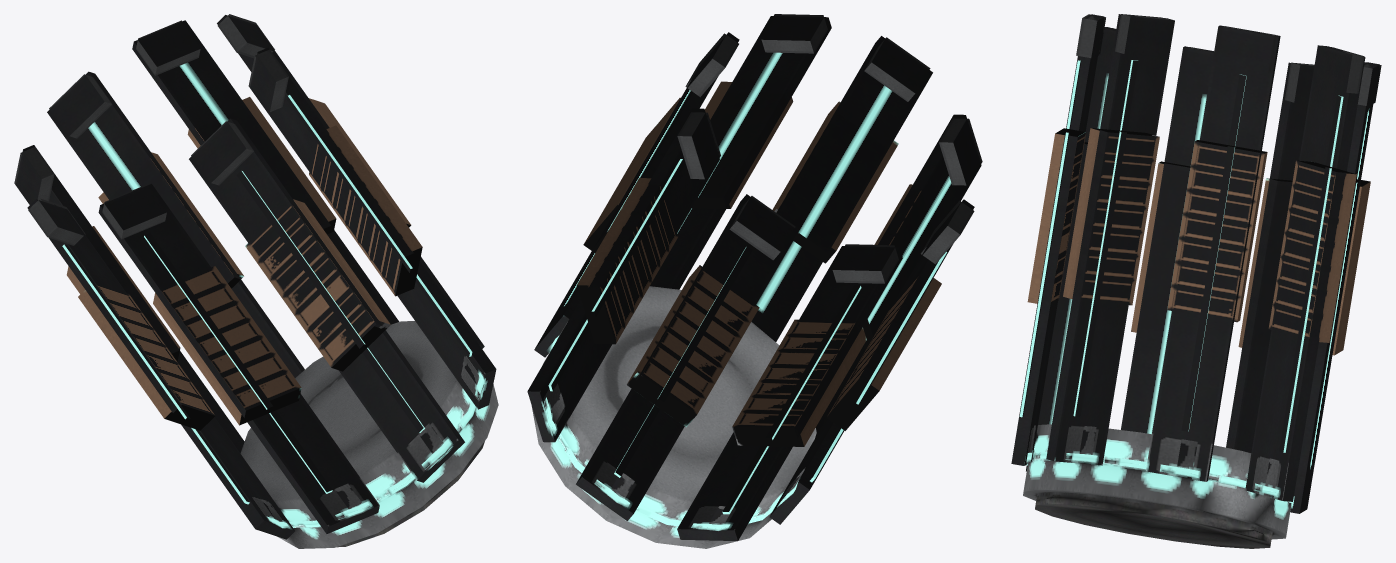
The model's file is lc6_lorentz_catcher.gltf.
3 renders of one model, left to right at view 1: azimuth 30°, elevation 25°; view 2: azimuth 150°, elevation 25°; view 3: azimuth 270°, elevation 25°, orthographic. The views are drawn at different scales.
Parts seen in each view (by area): view 1: B_forearm_L__lc6_lorentz_catcher; view 2: B_forearm_L__lc6_lorentz_catcher; view 3: B_forearm_L__lc6_lorentz_catcher.
Boxes of the visible parts, box(x1,y1,x2,y2) form: B_forearm_L__lc6_lorentz_catcher: box(14, 14, 498, 548); B_forearm_L__lc6_lorentz_catcher: box(527, 14, 982, 548); B_forearm_L__lc6_lorentz_catcher: box(1011, 14, 1381, 548).
Bounding box in the file's own units: 0.2047 × 0.2355 × 0.1553.
Materials: 1 (1 with a texture image).
